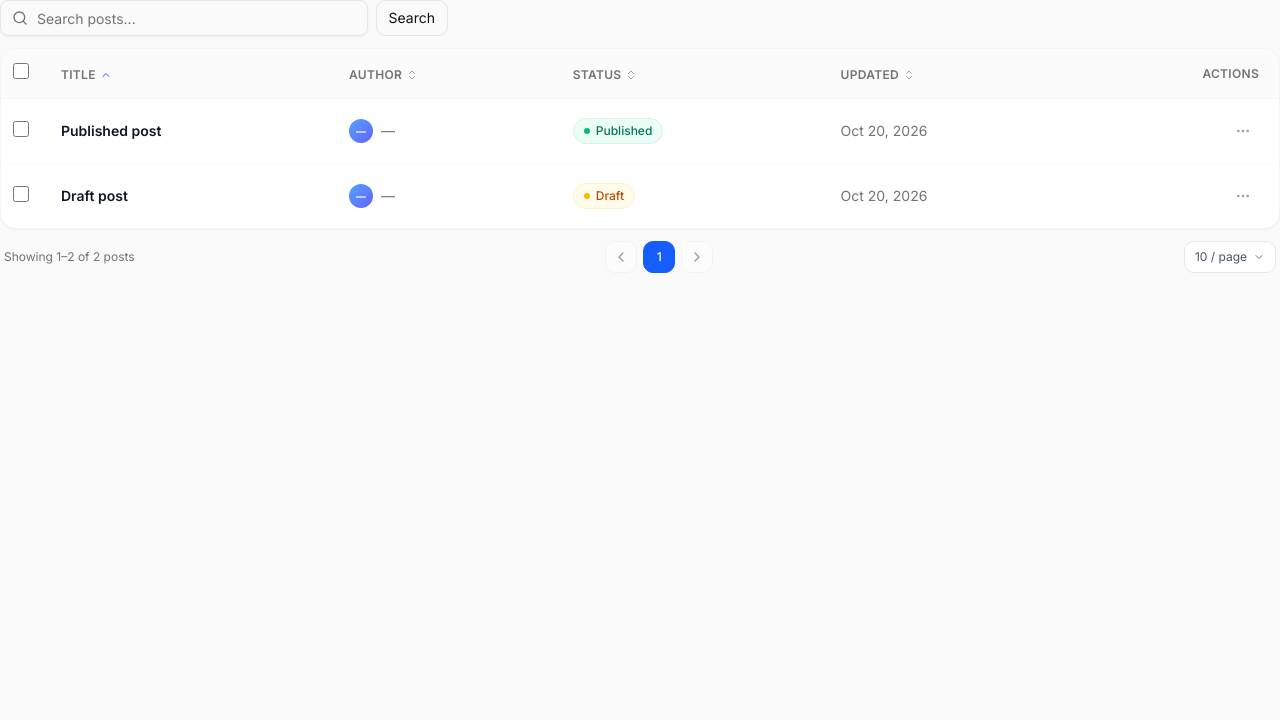
Test: bulk post selection › preserves selection after a rejected action
The width and height of the screenshot is (1280, 720).
Click the checkbox named "Select Draft post".
click(21, 194)  # box [13,186,29,202]
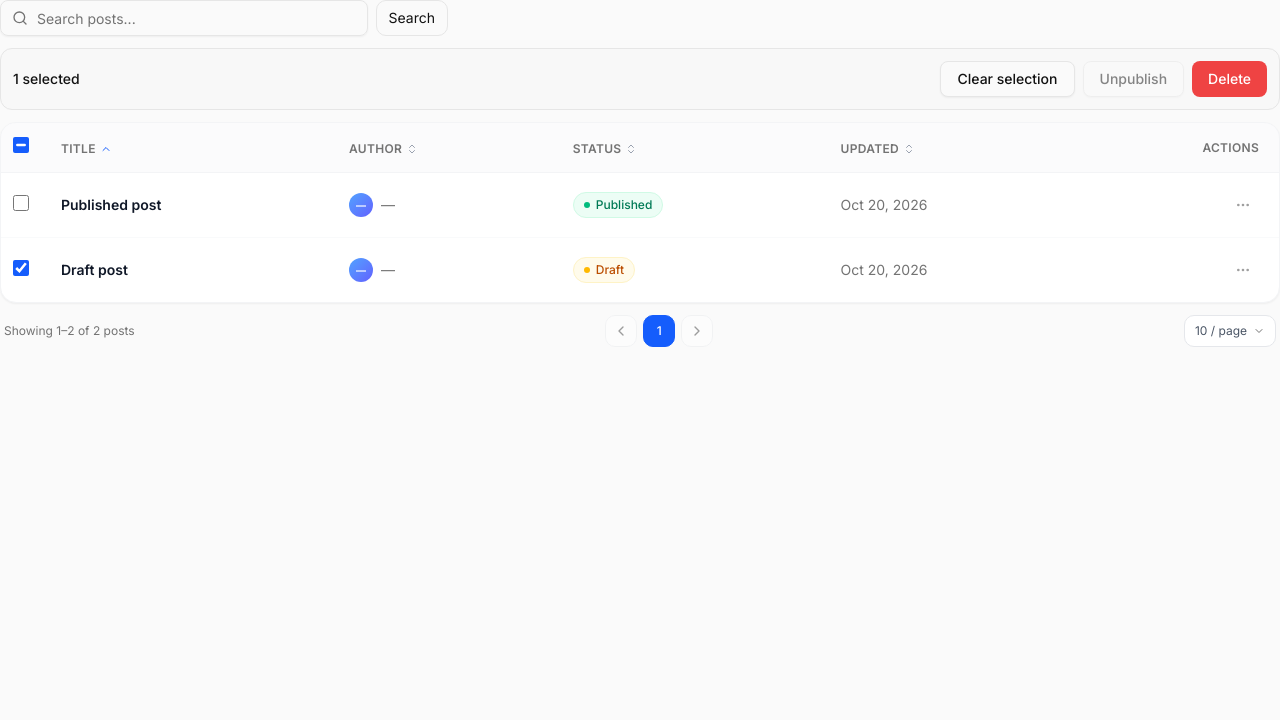
Click the button with aria-label "Delete selected".
click(1230, 79)  # box [1192,61,1267,97]
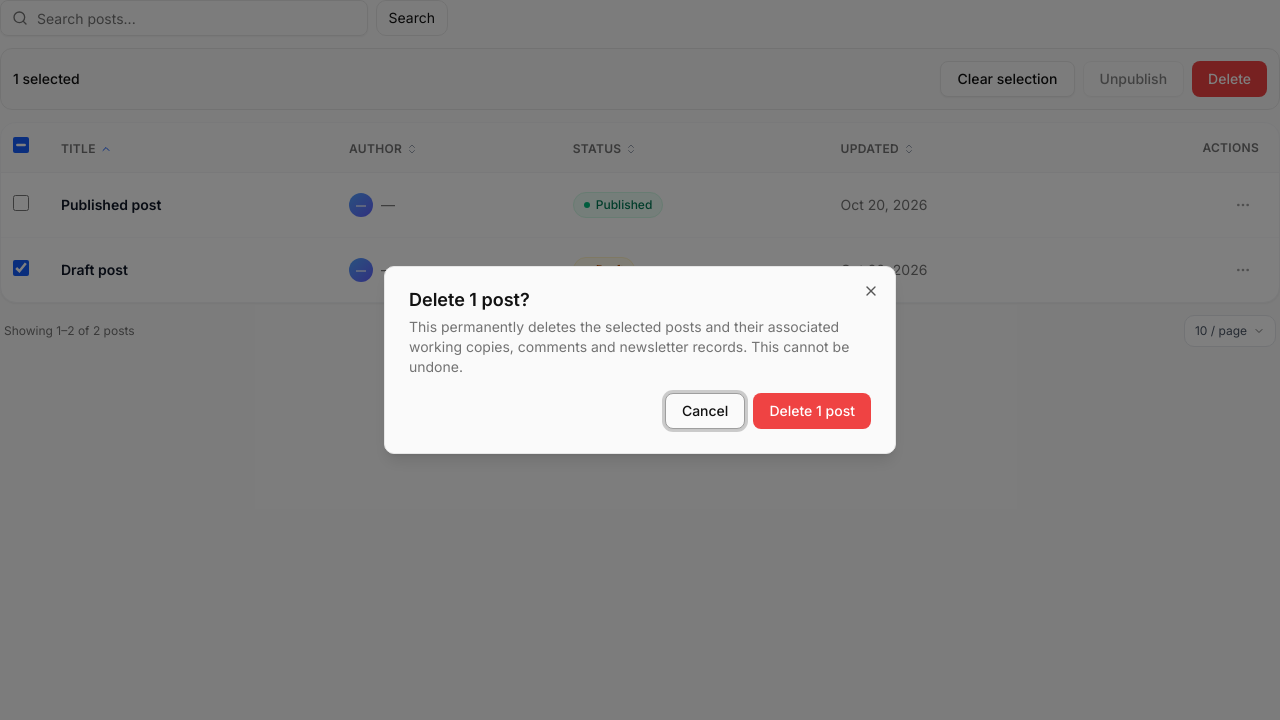
Click the button "Delete 1 post".
click(812, 411)  # box [753,393,871,429]
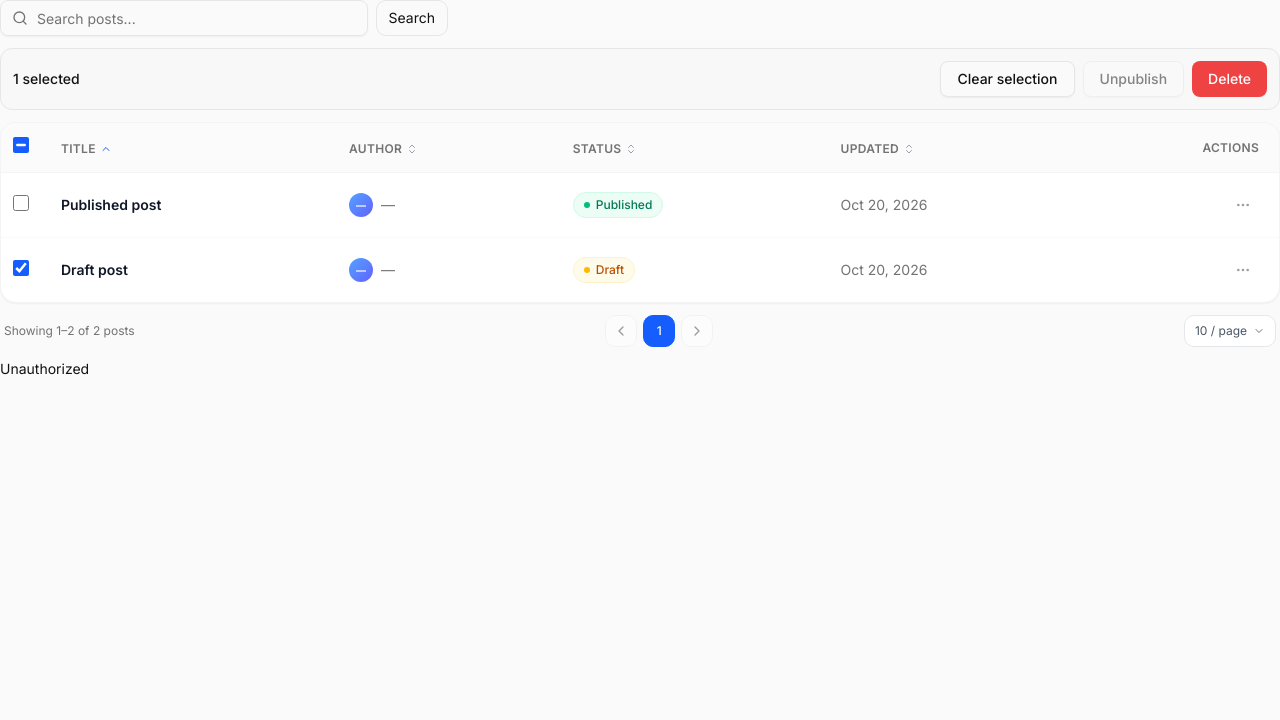
Check: the checkbox named "Select Draft post" is checked, box [13,260,29,276]
Check: the text "Unauthorized" is shown, box [0,360,89,377]
